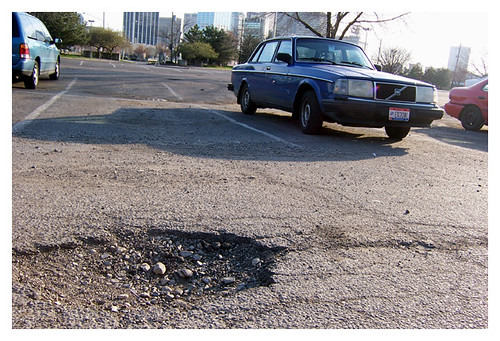building: (121, 8, 164, 58), (177, 11, 216, 61), (236, 11, 269, 56)
car: (211, 23, 428, 154)
sky: (372, 15, 485, 54)
street: (6, 60, 486, 328)
